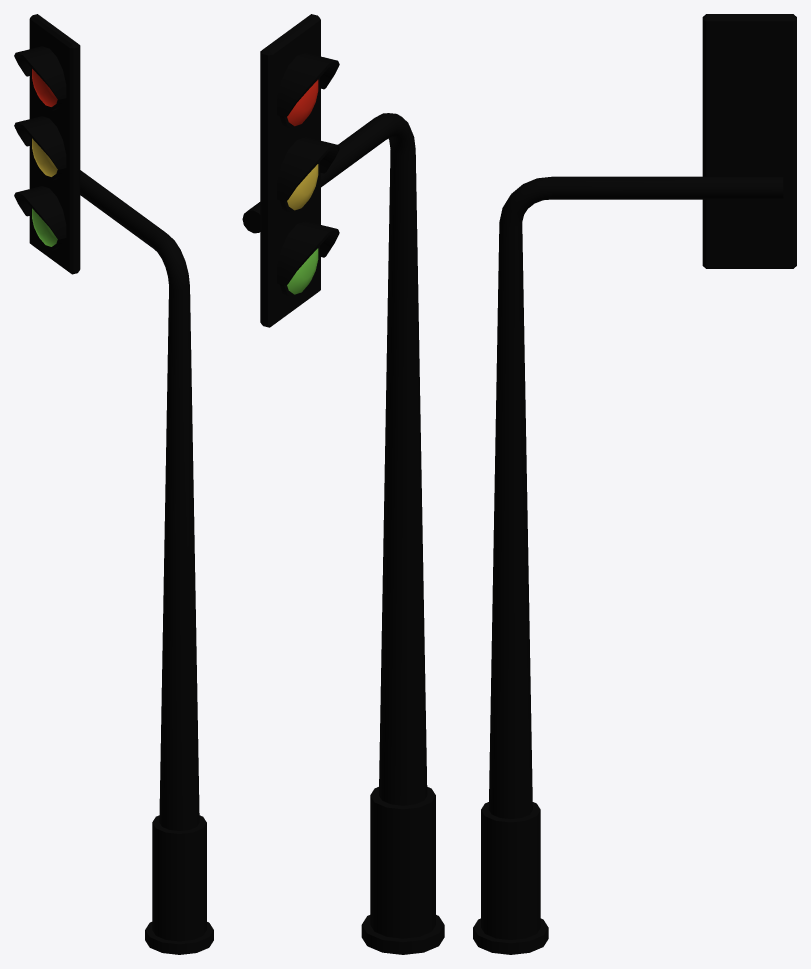
File: traffic_1.glb
3 views of the same model, side by side, from view 1: azimuth 30°, elevation 25°; view 2: azimuth 150°, elevation 25°; view 3: azimuth 270°, elevation 25° (orthographic). The views are drawn at different scales.
Visible parts, largest first — view 1: traffic_1; view 2: traffic_1; view 3: traffic_1.
Boxes of the visible parts, x1=… form: traffic_1: x1=14, y1=14, x2=213, y2=954; traffic_1: x1=242, y1=14, x2=444, y2=954; traffic_1: x1=473, y1=14, x2=796, y2=954.
Size of the model in its own units: 0.3376 by 3.48 by 1.12.
Materials: 1 (1 with a texture image).
